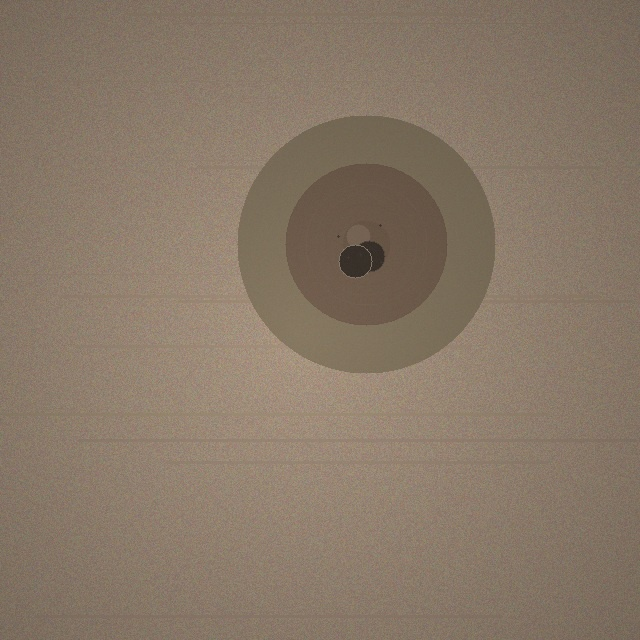shrinkage: (237, 115, 495, 373)
